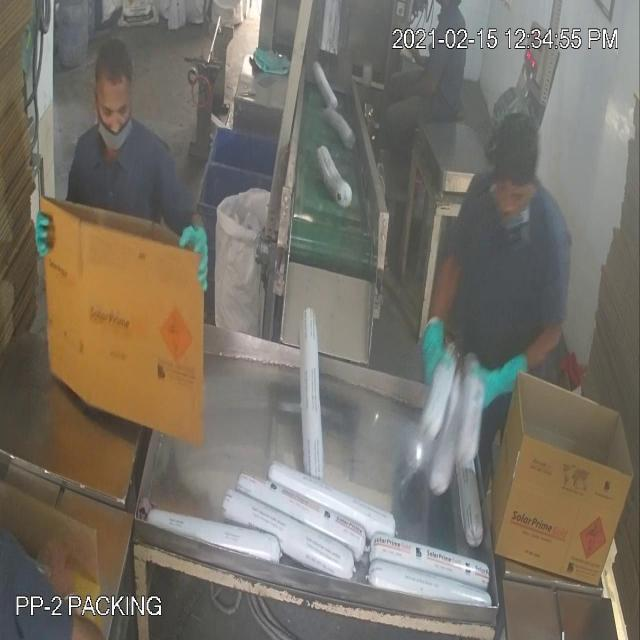Gloves: (52, 90, 498, 378)
